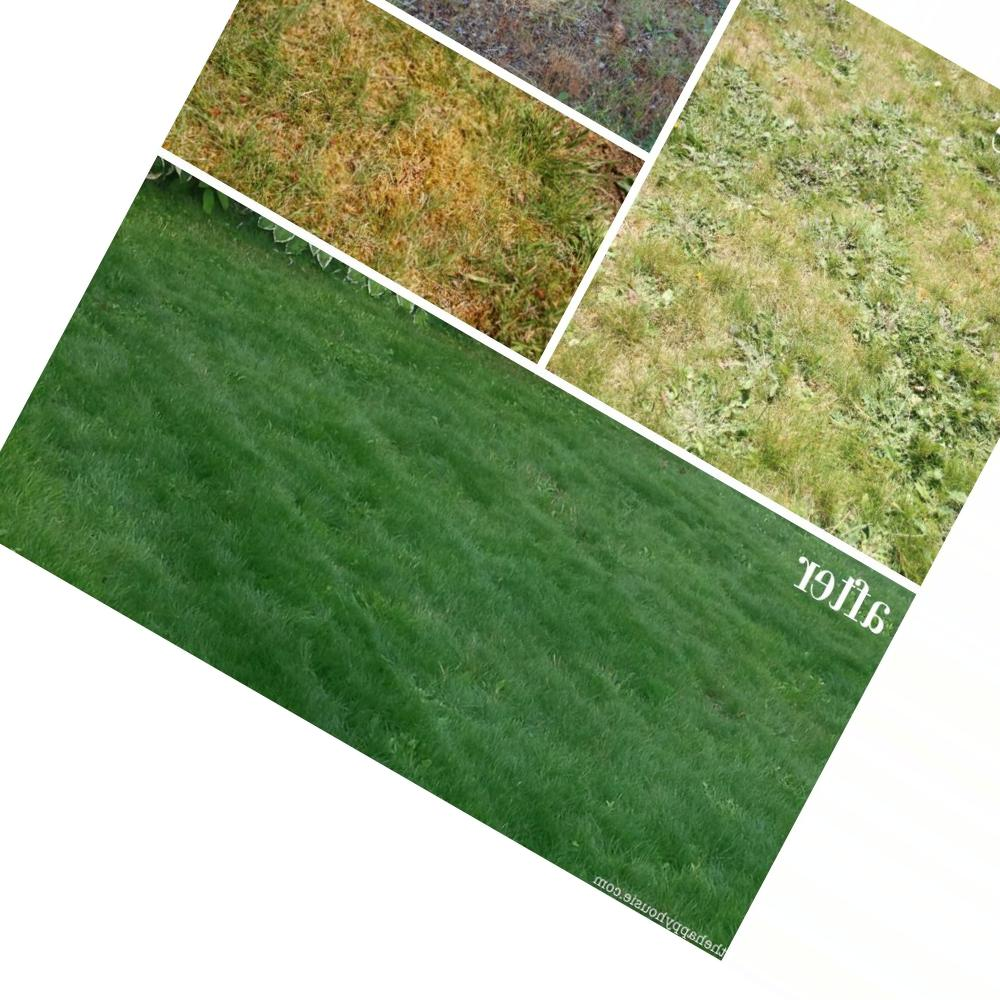patch: (737, 40, 984, 444), (664, 188, 916, 419), (762, 348, 950, 511), (375, 87, 518, 284), (246, 28, 375, 187), (311, 172, 396, 245)
